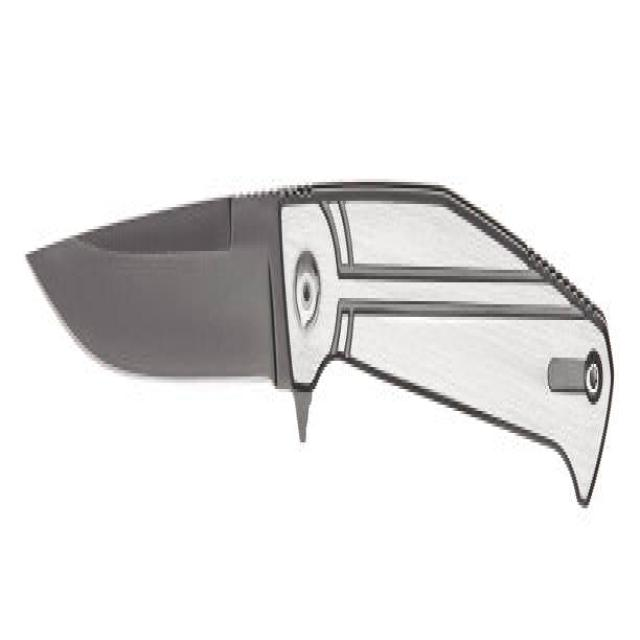knife: (22, 154, 619, 522)
